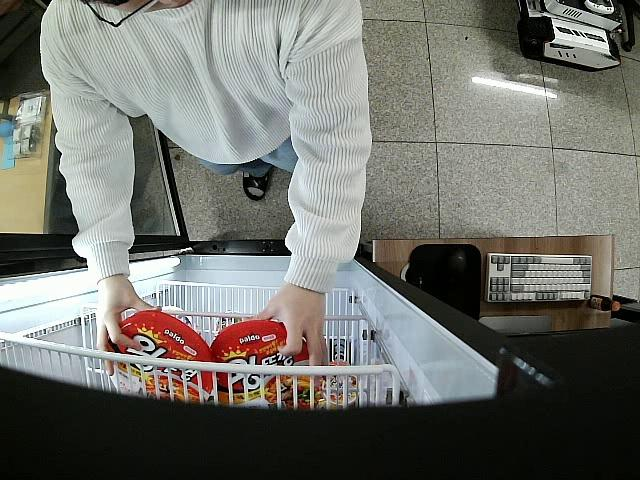00_hand: (247, 286, 327, 386), (95, 281, 165, 377)
10_wangTtukkeong: (213, 317, 323, 411), (104, 311, 214, 401)
